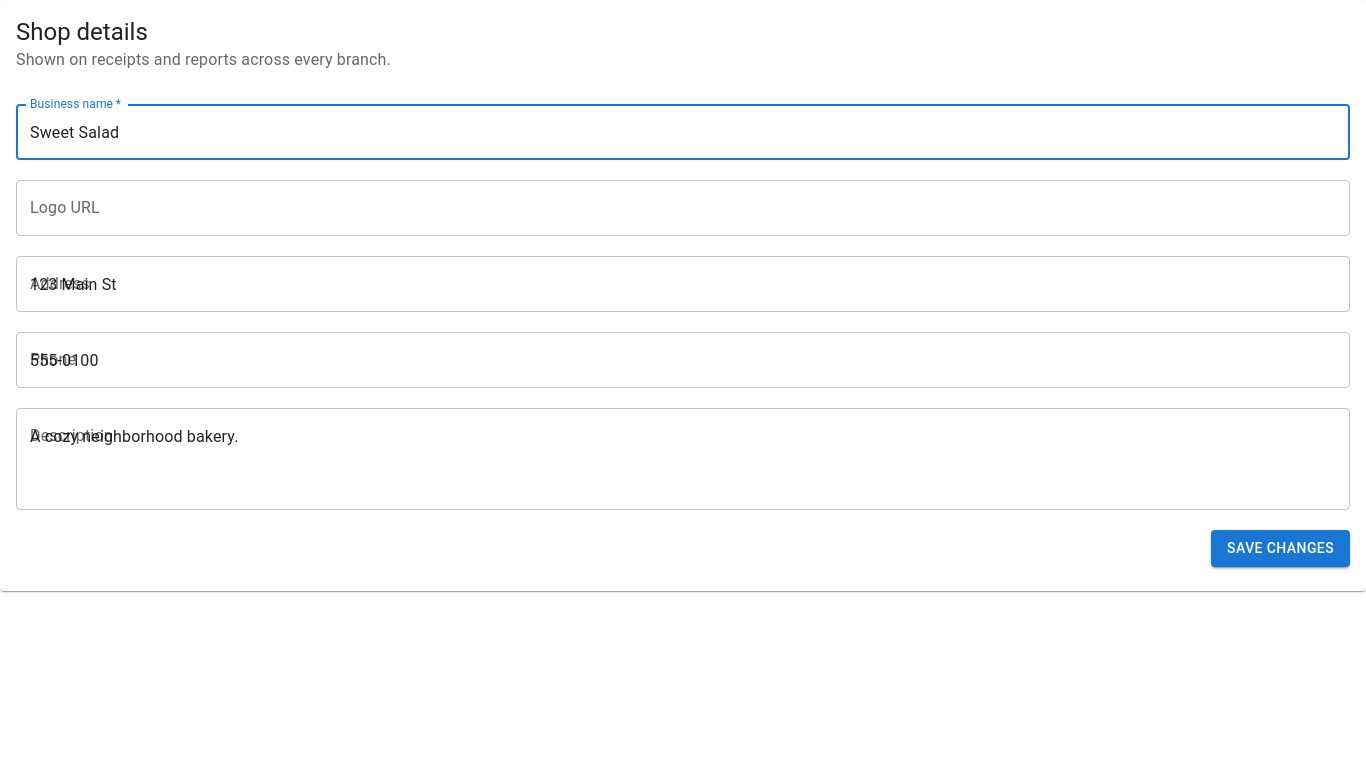
Scenario: ShopDetailsForm › shows a success snackbar after a successful save
Click the button "Save changes" at (1281,548), box [1211,530,1350,566]
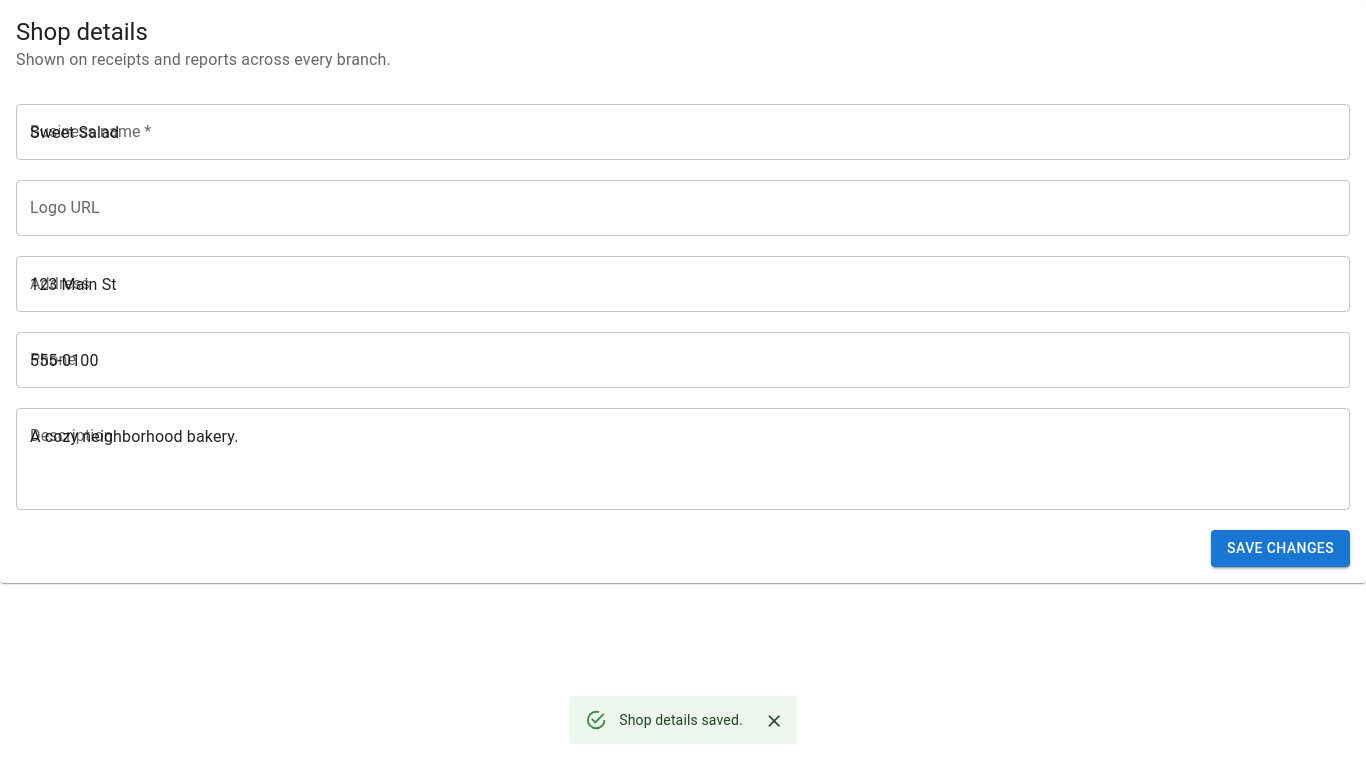
Expected: the text "Shop details saved." is shown, [619,712,743,728]
